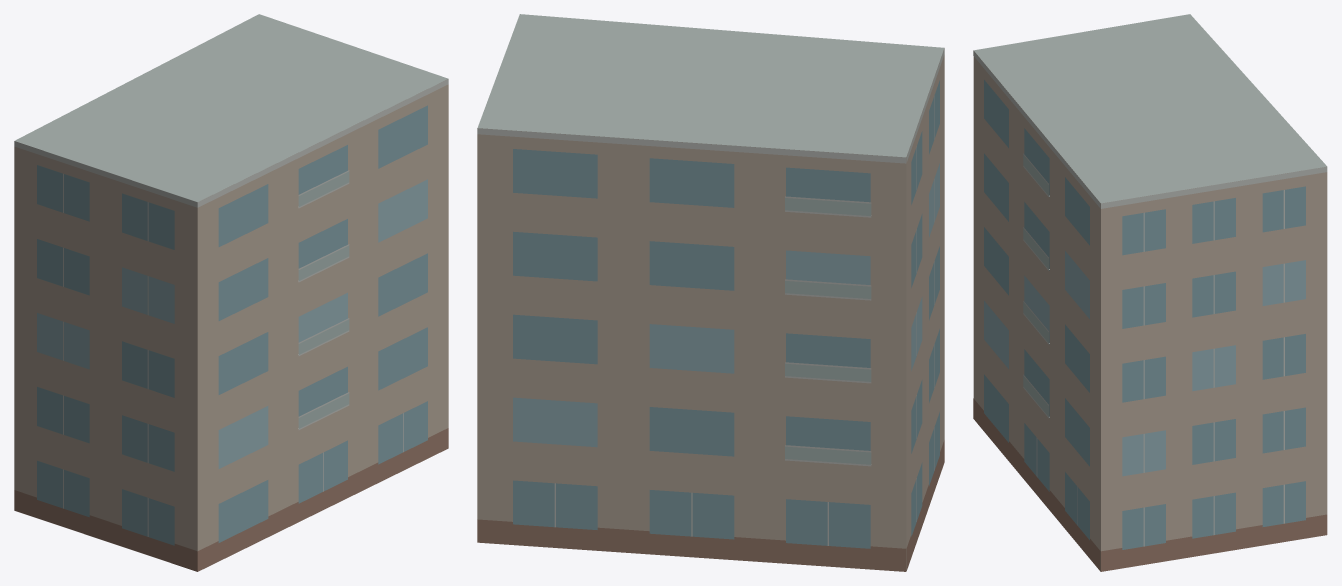
Rendered from survey-upis-32952249.glb.
The picture shows the model from 3 angles, left to right: view 1: azimuth 30°, elevation 25°; view 2: azimuth 150°, elevation 25°; view 3: azimuth 270°, elevation 25°; orthographic projection. The views are drawn at different scales.
Parts seen in each view (by area): view 1: survey-upis-32952249.tmp; view 2: survey-upis-32952249.tmp; view 3: survey-upis-32952249.tmp.
Boxes of the visible parts, <box> form: survey-upis-32952249.tmp: <box>14,14,448,571</box>; survey-upis-32952249.tmp: <box>477,14,944,571</box>; survey-upis-32952249.tmp: <box>973,14,1327,571</box>.
Bounding box in the file's own units: 18.04 × 16.35 × 14.24.
